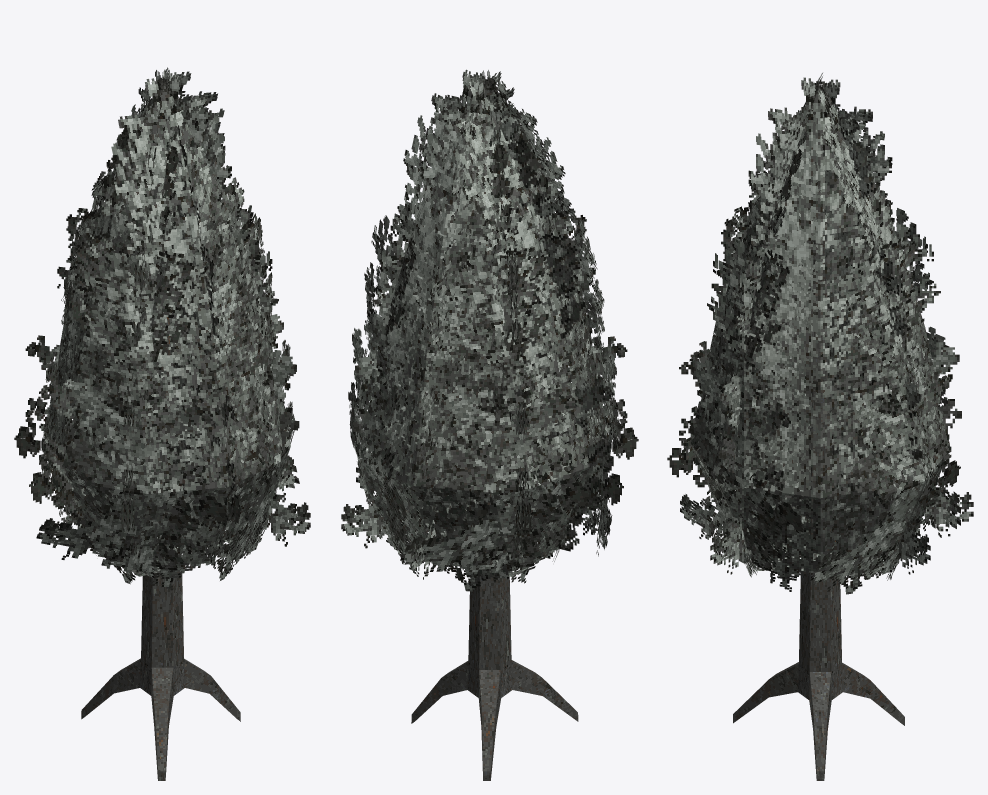
The model's file is tree07_winter.glb.
3 renders of one model, left to right at view 1: azimuth 30°, elevation 25°; view 2: azimuth 150°, elevation 25°; view 3: azimuth 270°, elevation 25°, orthographic.
Parts seen in each view (by area): view 1: tree07; view 2: tree07; view 3: tree07.
Part boxes in pixels (left/top/right/bottom): tree07: left=14, top=67, right=310, bottom=780; tree07: left=341, top=69, right=638, bottom=780; tree07: left=667, top=73, right=973, bottom=780.
Bounding box in the file's own units: 4.6 × 11.01 × 4.6.
1 material, 1 textured.
